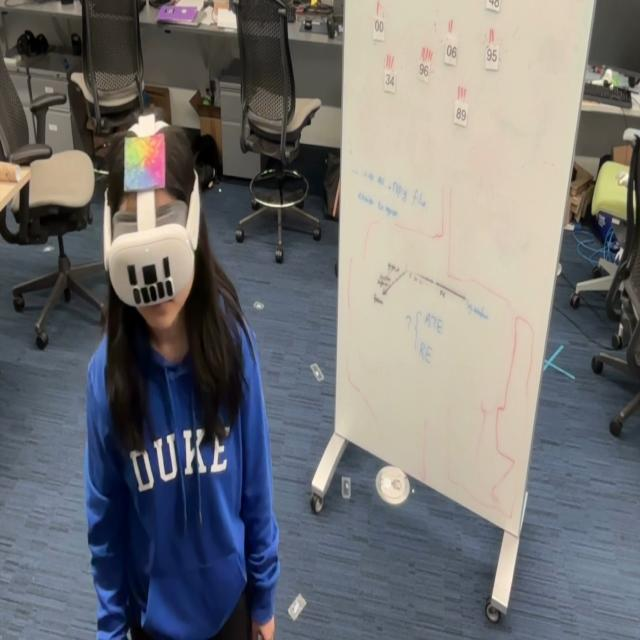Marker: (122, 130, 167, 193)
